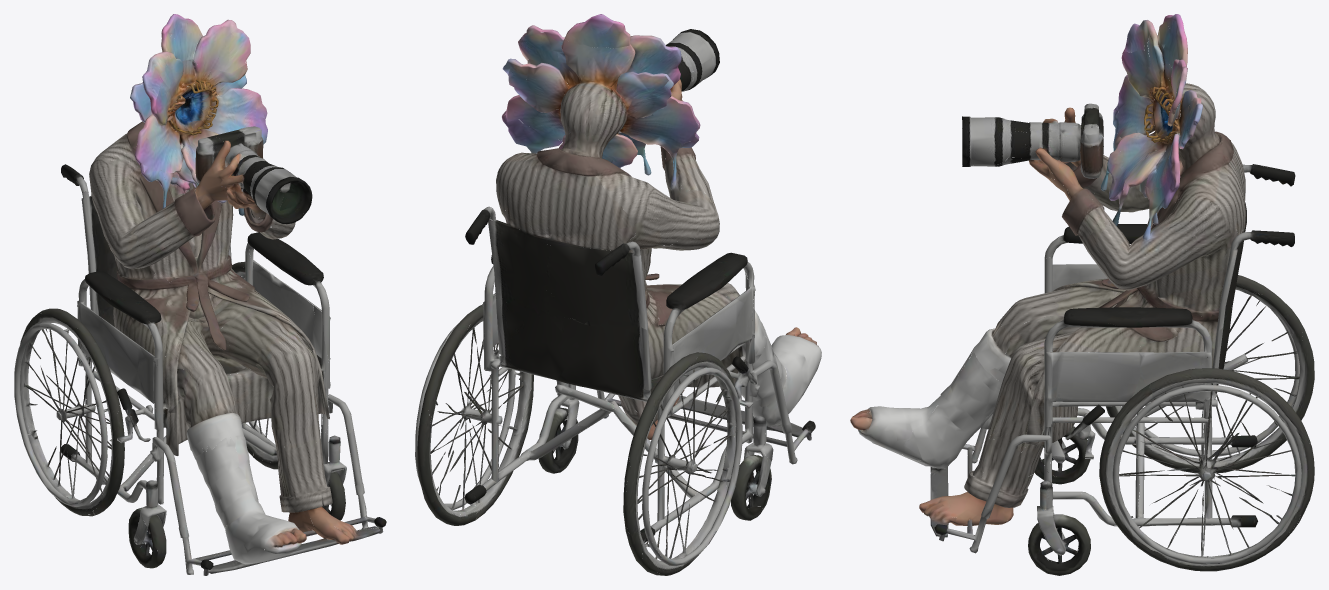
File: lensman.glb
The picture shows the model from 3 angles, left to right: view 1: azimuth 30°, elevation 25°; view 2: azimuth 150°, elevation 25°; view 3: azimuth 270°, elevation 25°; orthographic projection. The views are drawn at different scales.
Parts seen in each view (by area): view 1: tripo_node_edccb038-9cbf-4acc-a436-0ffde5f229b6; view 2: tripo_node_edccb038-9cbf-4acc-a436-0ffde5f229b6; view 3: tripo_node_edccb038-9cbf-4acc-a436-0ffde5f229b6.
Part boxes in pixels (<box>): tripo_node_edccb038-9cbf-4acc-a436-0ffde5f229b6: <box>14,14,386,575</box>; tripo_node_edccb038-9cbf-4acc-a436-0ffde5f229b6: <box>415,14,821,575</box>; tripo_node_edccb038-9cbf-4acc-a436-0ffde5f229b6: <box>850,14,1314,575</box>.
Bounding box in the file's own units: 0.464 × 1 × 0.8233.
Materials: 1 (1 with a texture image).
